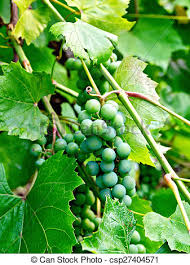grapes: (63, 99, 139, 202)
